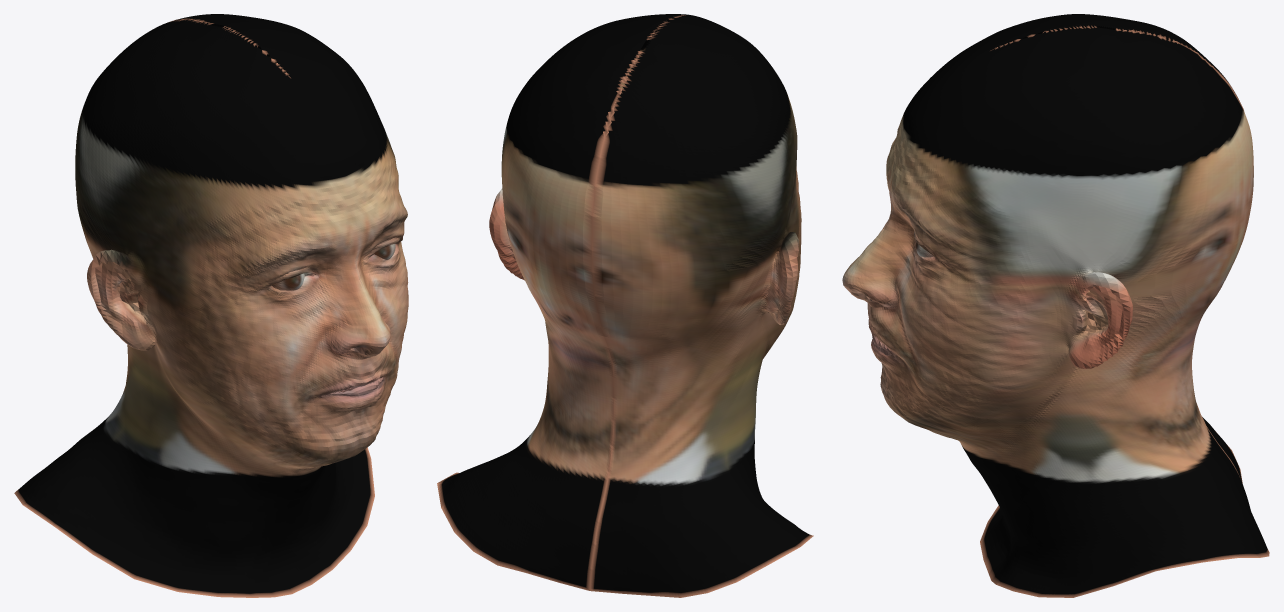
The model's file is mesh_coarse_detail.obj.
3 views of the same model, side by side, from view 1: azimuth 30°, elevation 25°; view 2: azimuth 150°, elevation 25°; view 3: azimuth 270°, elevation 25° (orthographic). The views are drawn at different scales.
Size of the model in its own units: 0.2188 by 0.3252 by 0.233.
